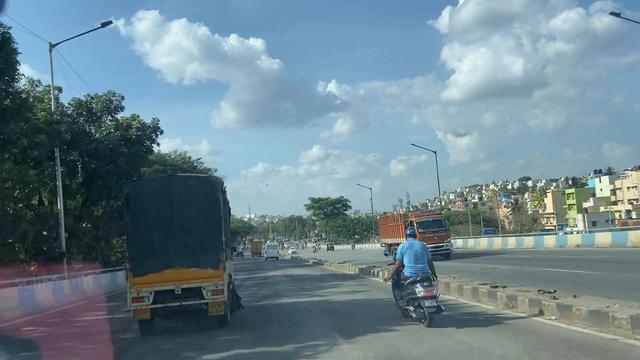HMV: (111, 173, 239, 322)
LMV: (387, 219, 438, 322)
